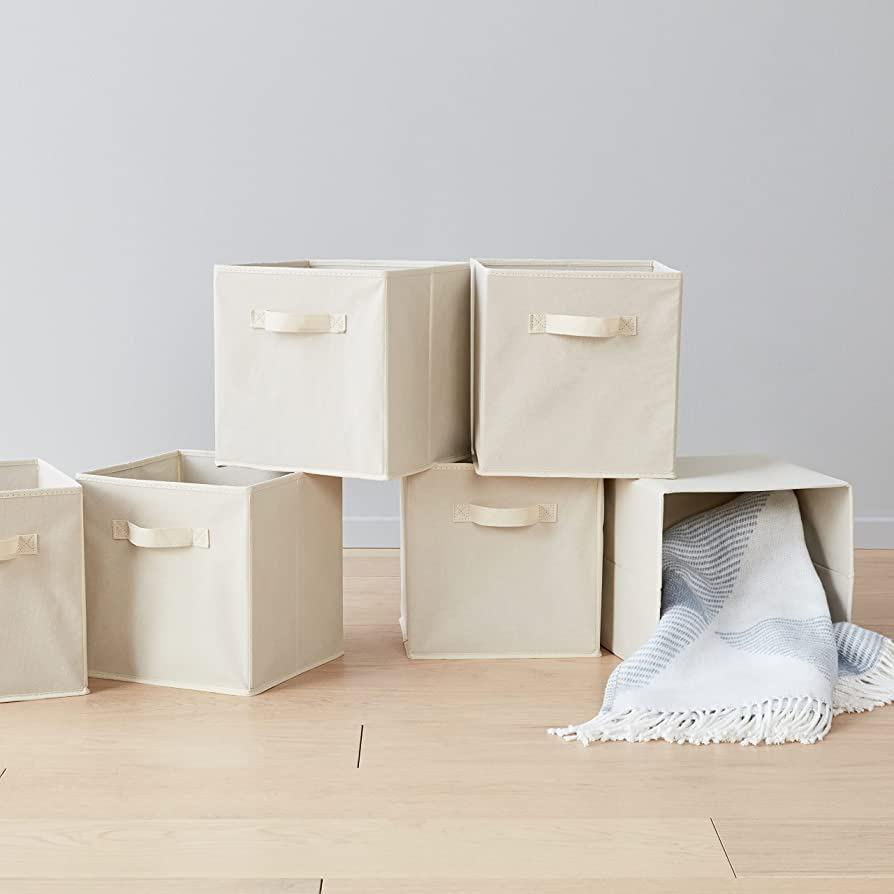cube: (79, 447, 353, 698), (203, 258, 464, 477), (469, 252, 692, 485), (399, 460, 604, 670)
